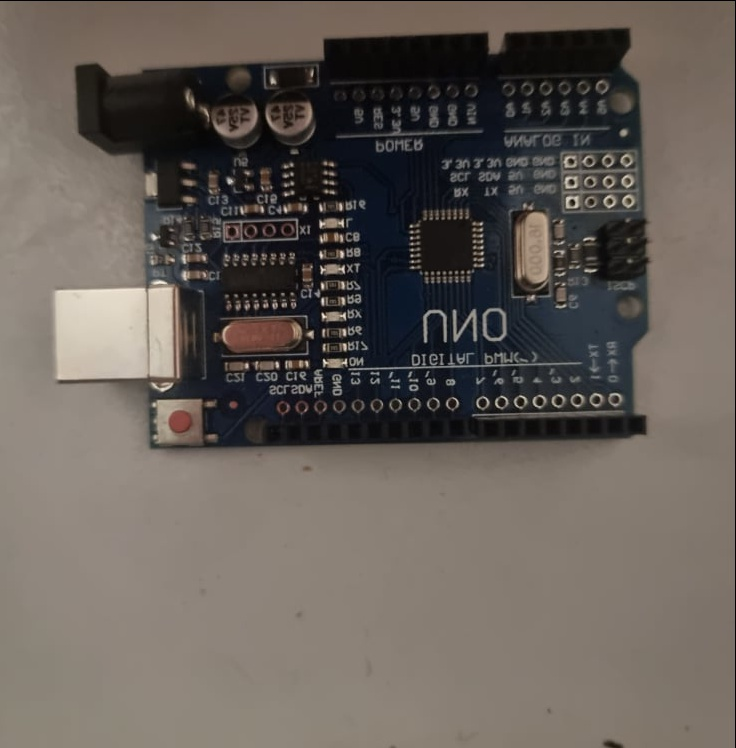UNO R3: (53, 24, 655, 449)
